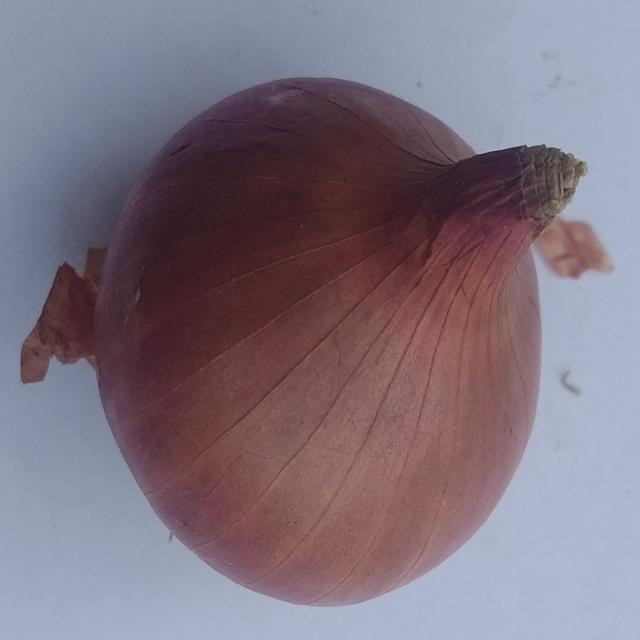onion: (20, 79, 590, 605)
